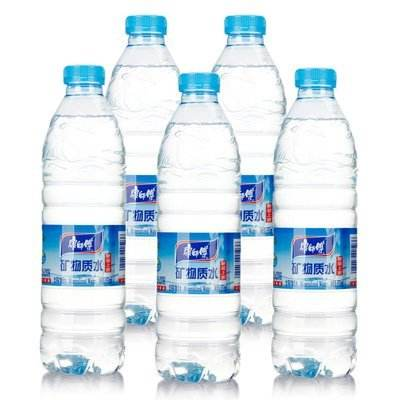amwater: (267, 63, 374, 387), (201, 9, 299, 338), (42, 49, 133, 381), (102, 11, 191, 339), (156, 65, 245, 392)
